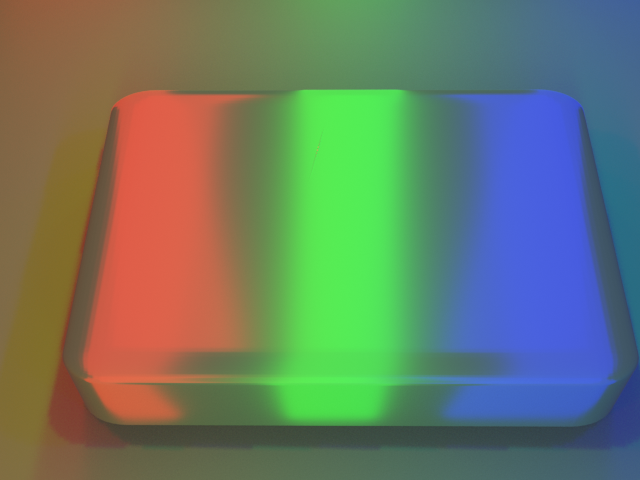scratch: (169, 71, 464, 220)
